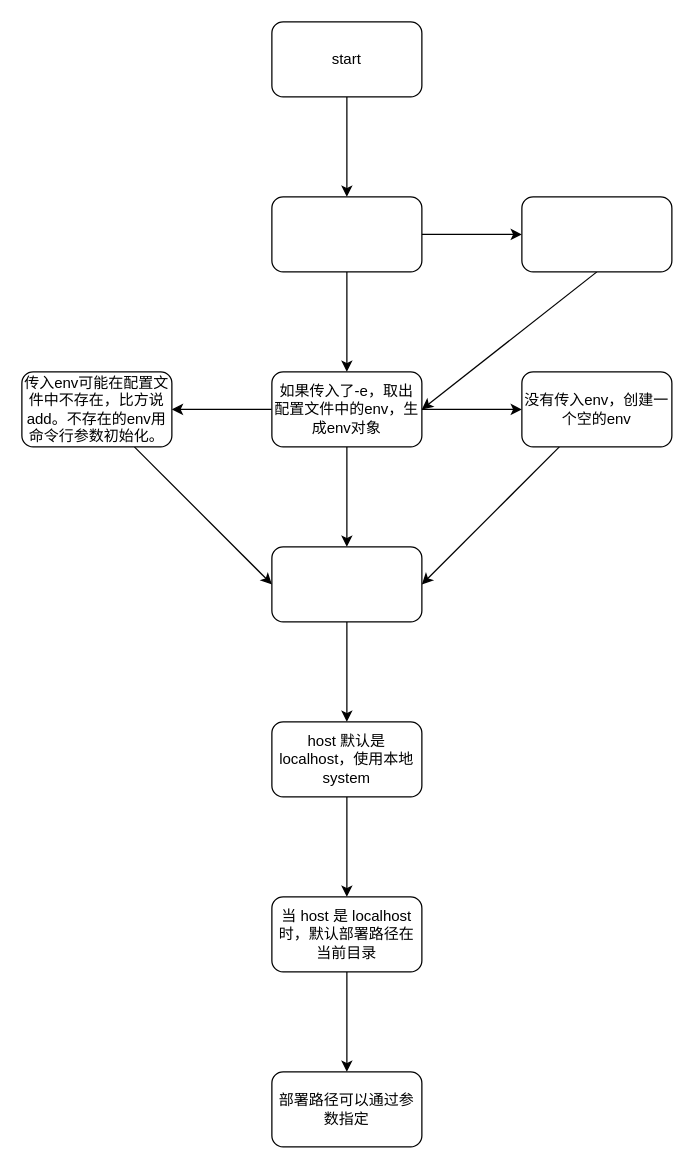
Image size: 694x1169. Some labels were removed from this diagram. The centre of each missing label's shape, as x and y in pixels:
"没有配置文件时创建空的配置对象" goes at pixel 596 234.
"解析参数，用非False参数替换env对象中相应的值" goes at pixel 346 584.
"读取配置文件" goes at pixel 346 234.
